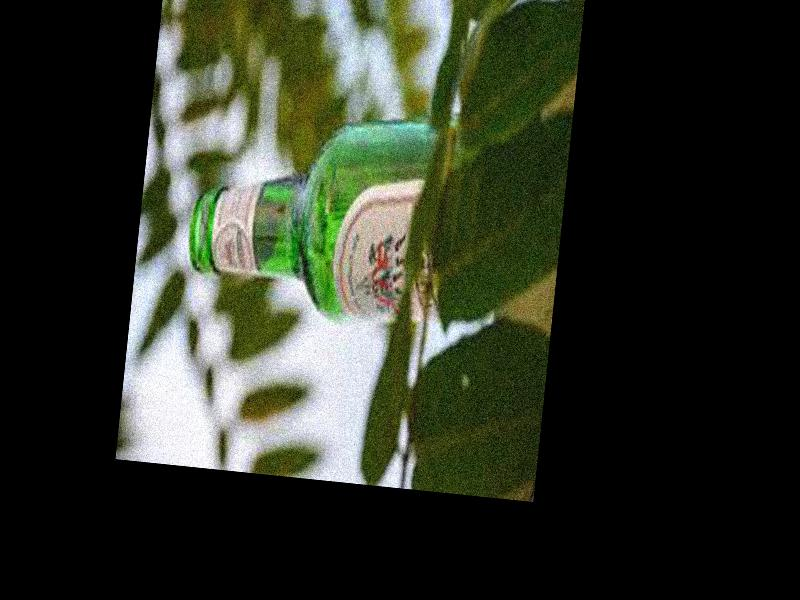Beer: (182, 102, 462, 329)
